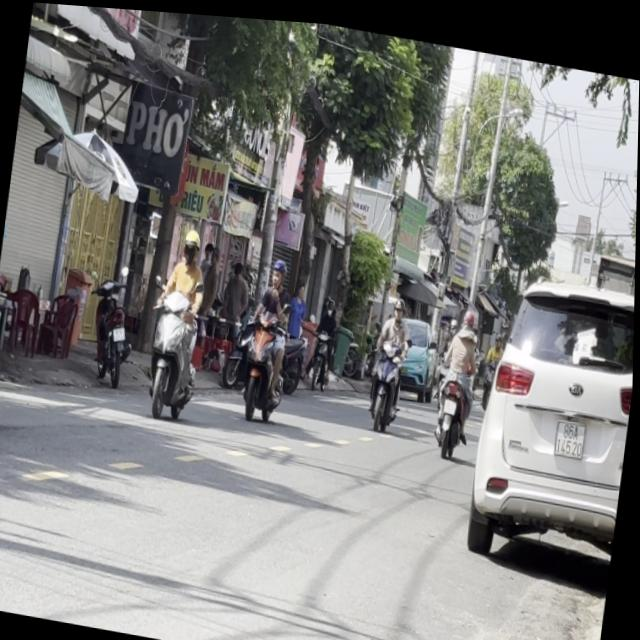helmet: (179, 222, 201, 260), (270, 253, 288, 286)
licenseplate: (140, 217, 216, 421), (238, 248, 300, 417)
